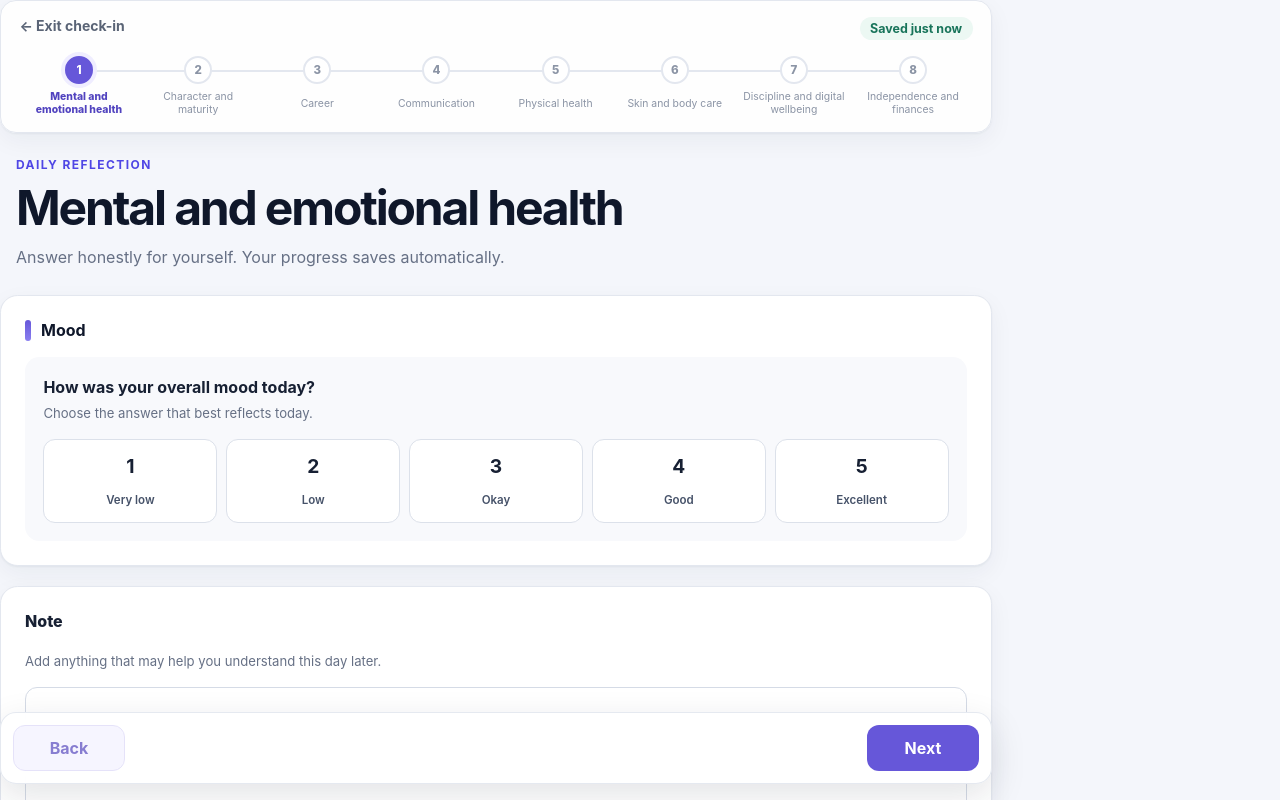
Test: DailyCheckInPage › flushes a pending save before Next changes category
Step 1. Click the radio button with aria-label "3: Okay" → coordinates (496, 481), box [409,439,583,523]
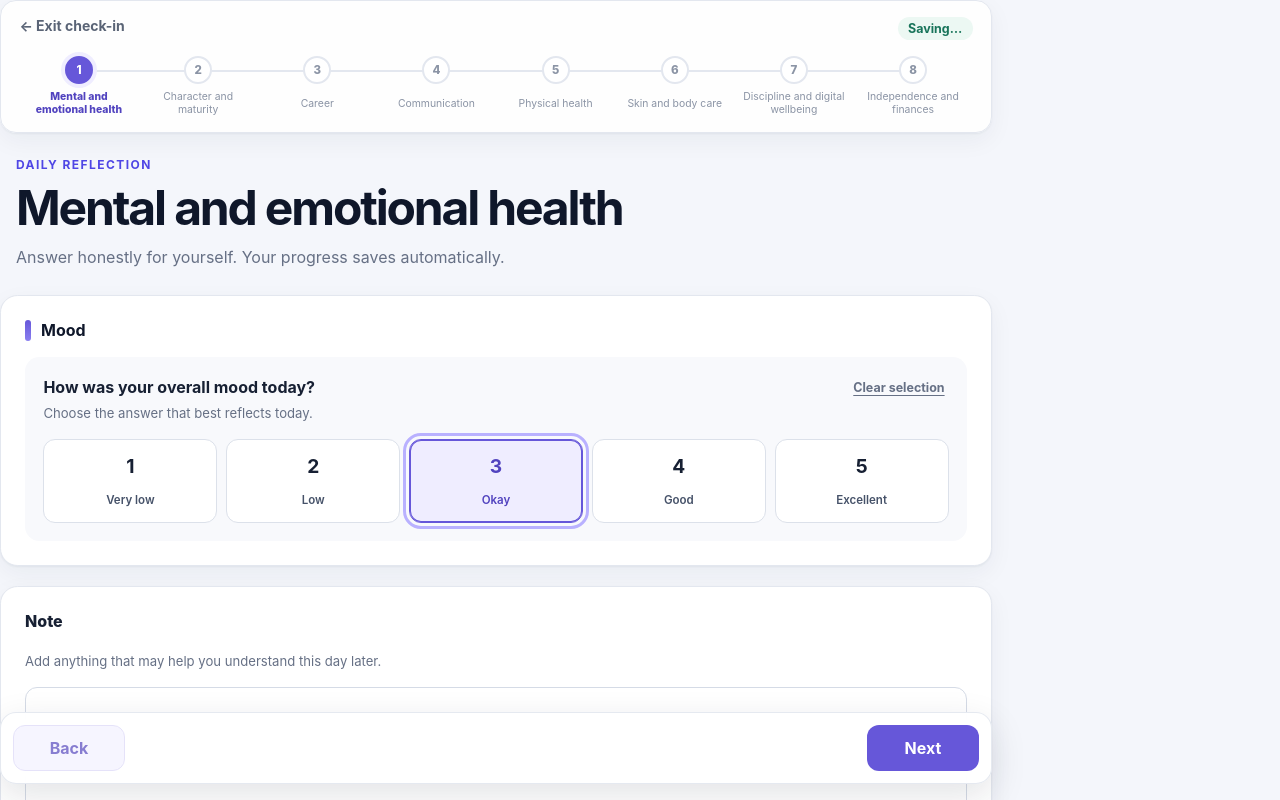
Step 2. Click the button "Next" → coordinates (923, 748), box [867,725,979,771]
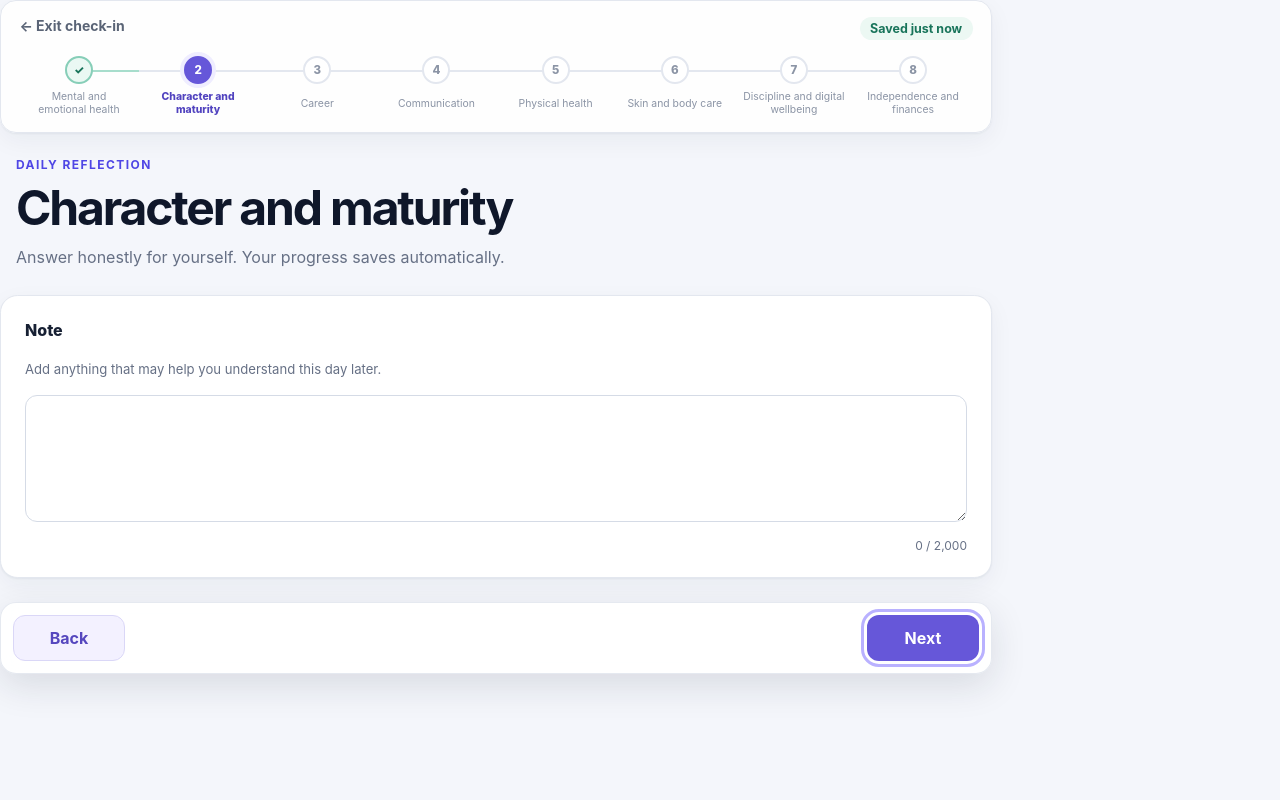
Expected: the heading "Character and maturity" is shown, [16,178,512,237]
